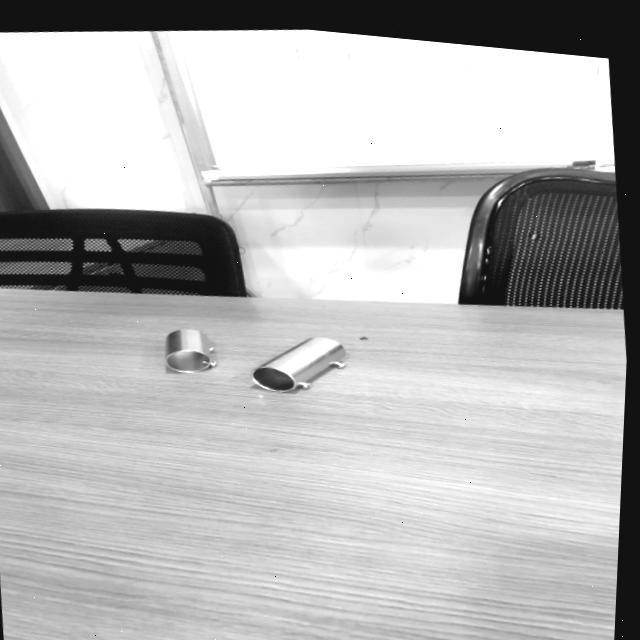Co_Lon: (248, 325, 352, 409)
Co_Nho: (162, 326, 215, 375)
